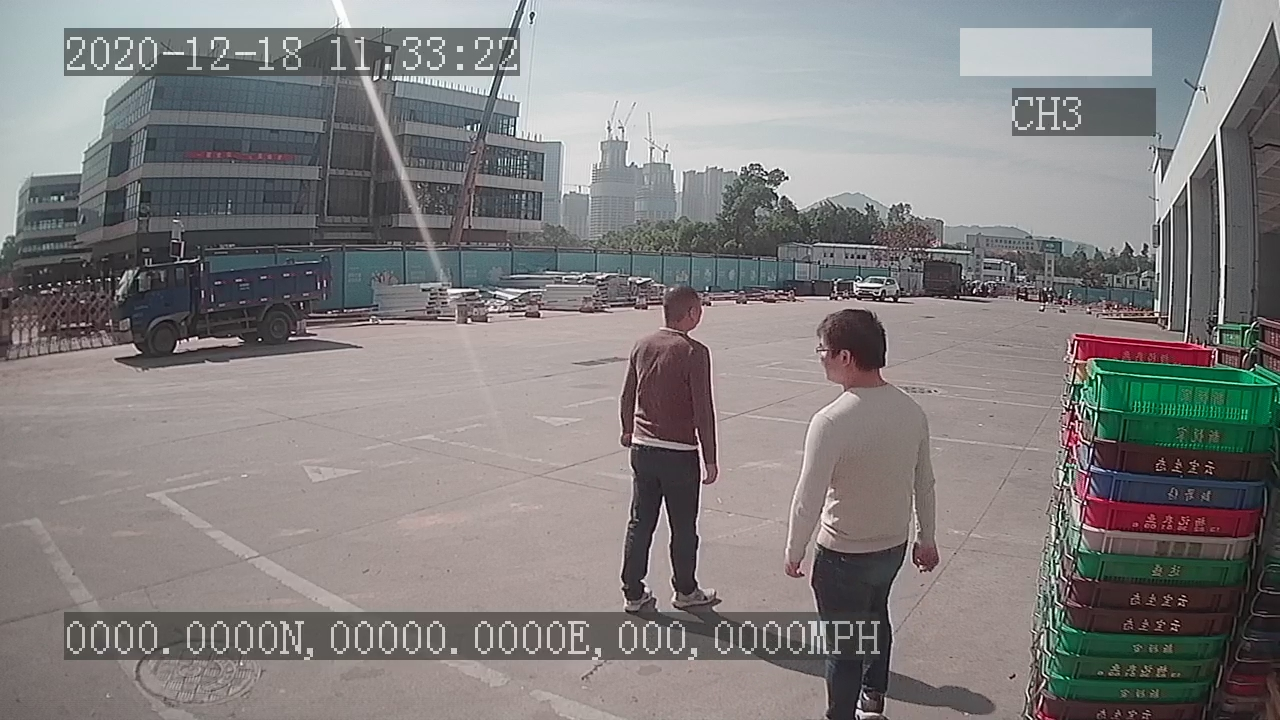person: (619, 284, 723, 613)
